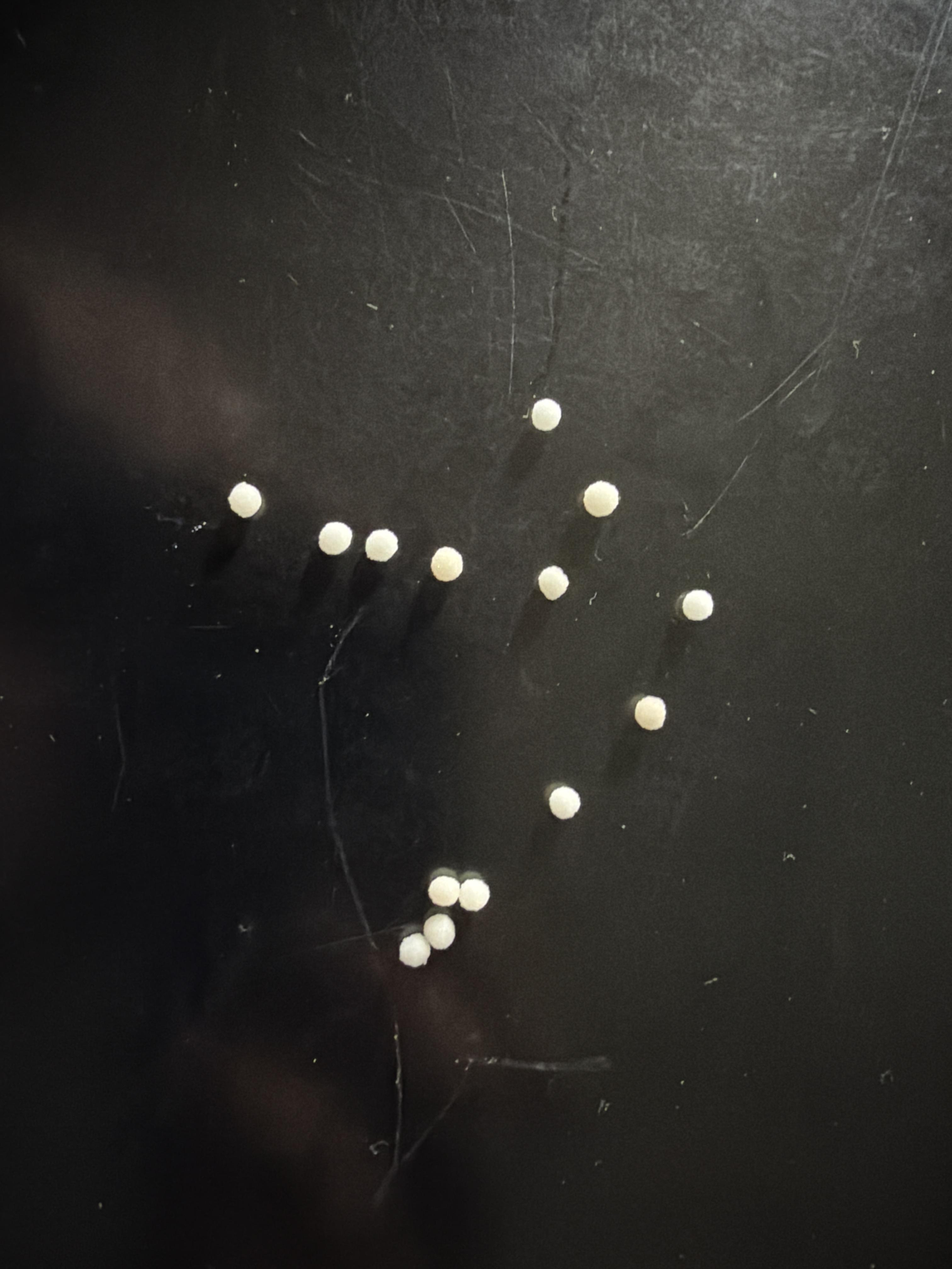pill: (582, 481, 619, 517), (228, 481, 262, 518), (423, 912, 455, 950), (399, 931, 431, 968), (318, 522, 352, 556), (430, 547, 463, 582), (548, 786, 581, 820), (537, 565, 569, 600), (365, 529, 398, 562), (634, 696, 666, 730), (428, 873, 460, 907), (680, 589, 713, 621), (459, 877, 490, 911), (531, 398, 561, 431)
